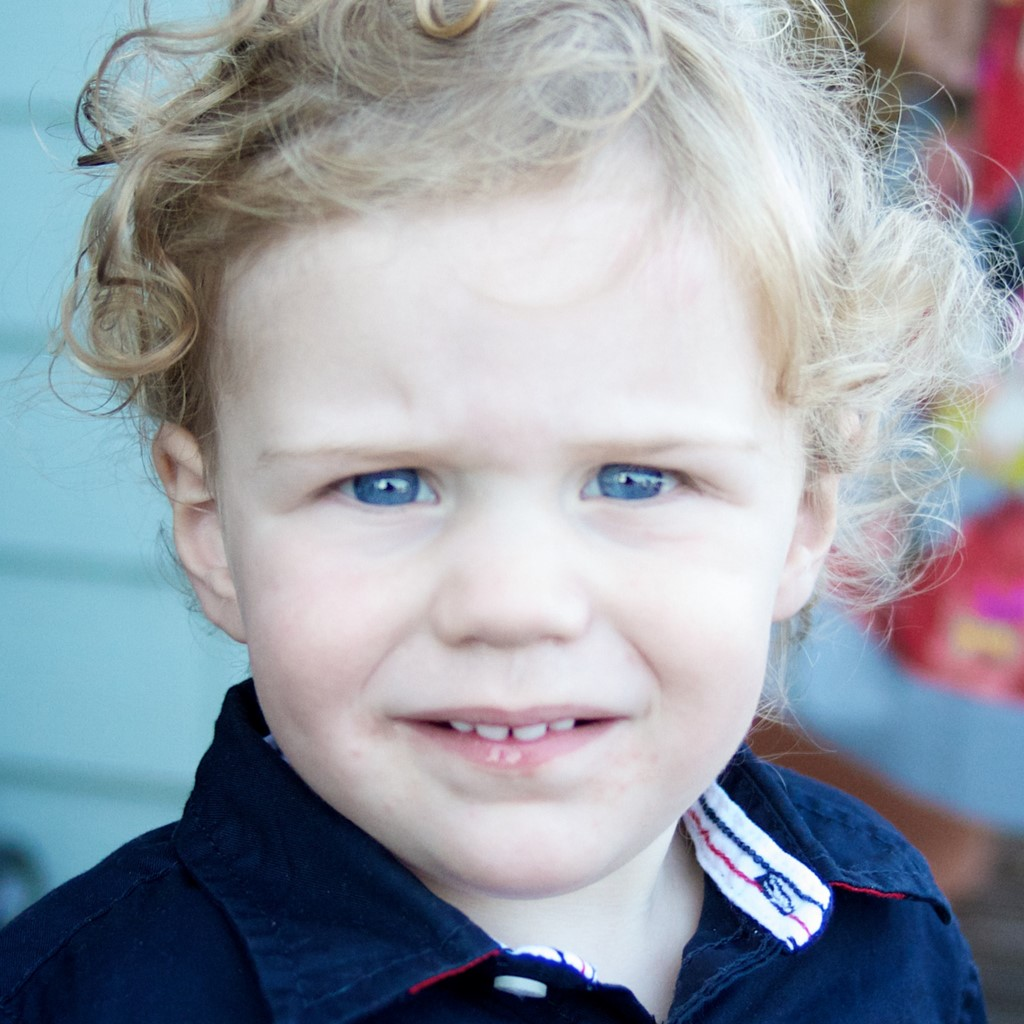sin_mascara: (148, 93, 792, 877)
